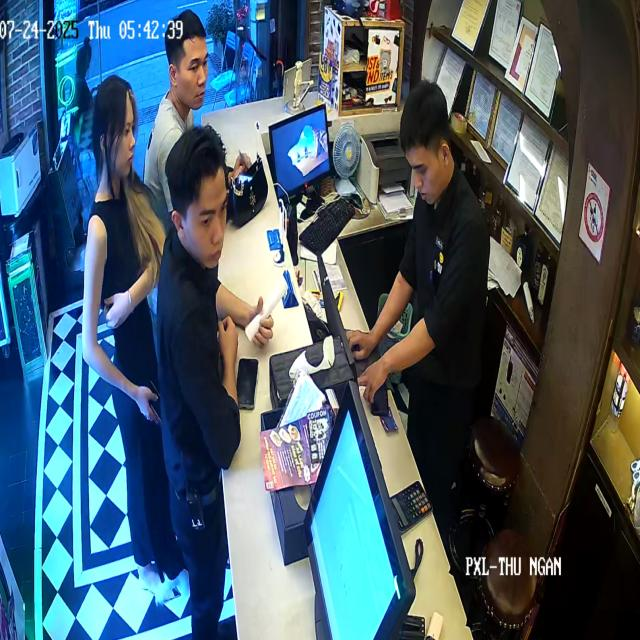khach: (79, 57, 182, 556), (143, 1, 207, 255)
nhan vien: (351, 83, 500, 461), (158, 140, 258, 617)
